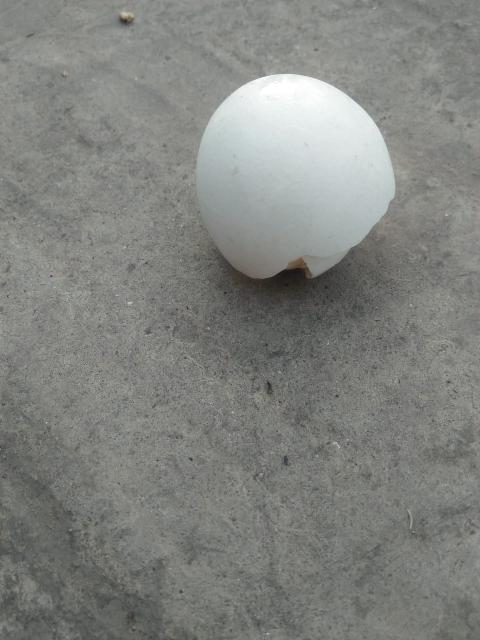Roto: (194, 72, 396, 280)
